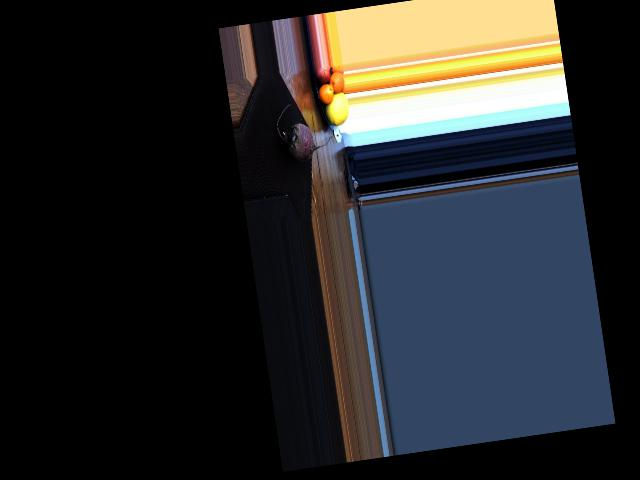beet: (273, 99, 332, 164)
